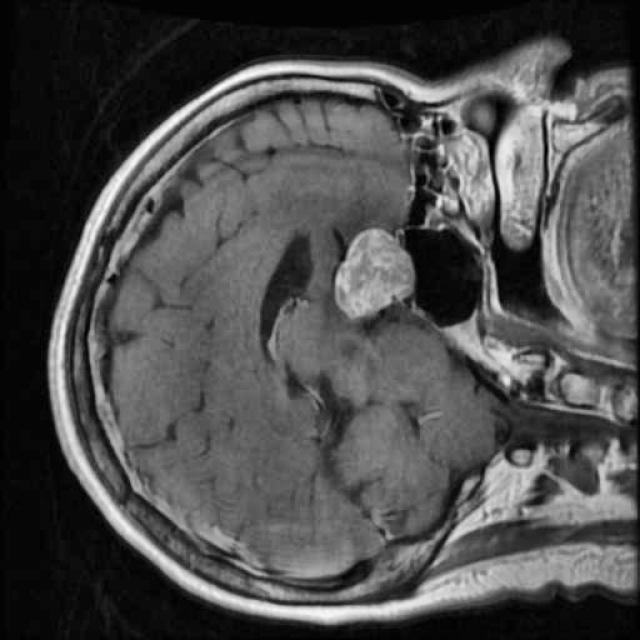Tumor: (318, 206, 430, 334)
